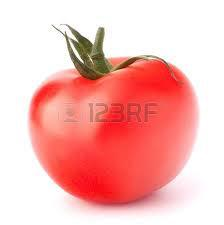tomato: (30, 56, 198, 205)
